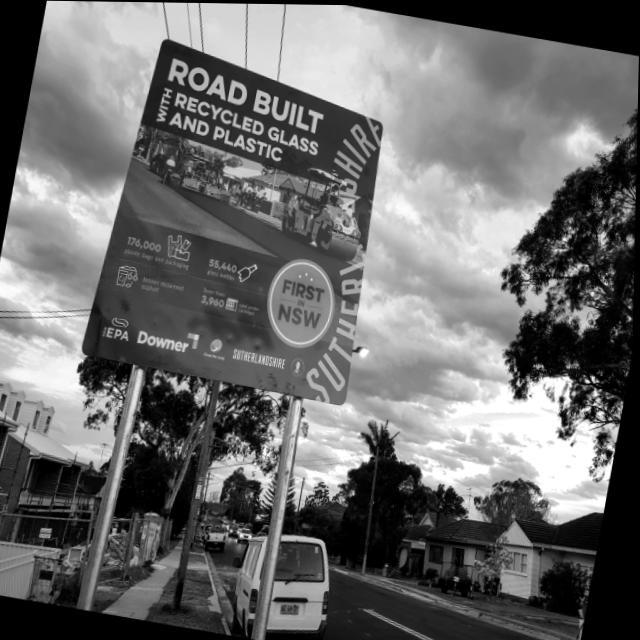cleat: (0, 1, 639, 640)
